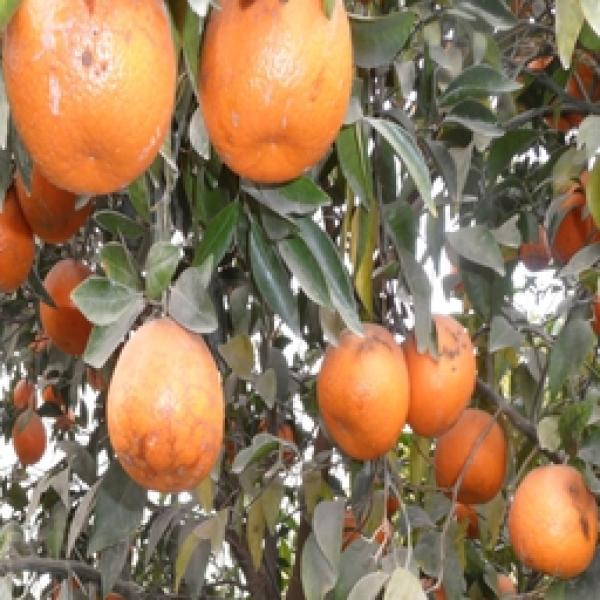Machas negras: (2, 0, 178, 217), (180, 0, 366, 197), (101, 308, 227, 494), (314, 314, 410, 466), (396, 300, 484, 432), (508, 456, 597, 576)
